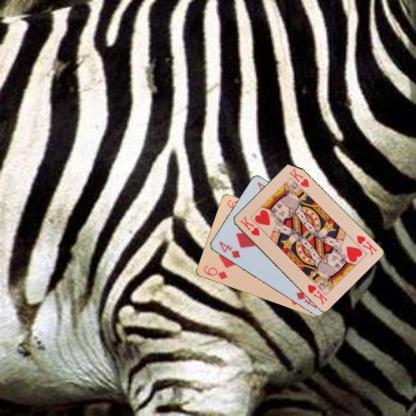4d: (216, 238, 241, 260)
6d: (200, 263, 229, 281)
Kh: (353, 233, 378, 256), (238, 214, 260, 237)
